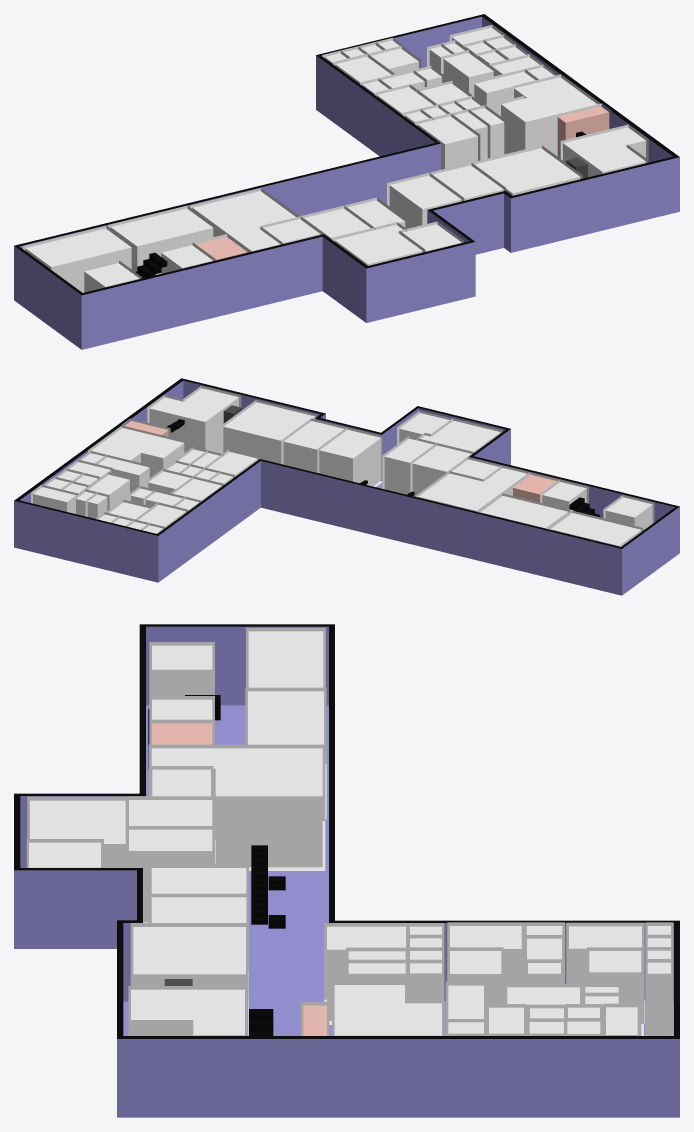
The picture shows the model from 3 angles, top to bottom: view 1: azimuth 30°, elevation 25°; view 2: azimuth 150°, elevation 25°; view 3: azimuth 270°, elevation 25°; orthographic projection. The views are drawn at different scales.
Parts seen in each view (by area): view 1: object, room_4_3_24, room_4_3_25, room_4_3_43, room_4_3_21, room_4_3_36, room_4_3_37, room_4_3_39, room_4_3_38, room_4_3_31, room_4_3_40, トイレ_4_3_2 (+15 smaller); view 2: object, room_4_3_37, room_4_3_36, room_4_3_39, room_4_3_43, room_4_3_24, room_4_3_40, room_4_3_25, room_4_3_21, room_4_3_22, room_4_3_42, room_4_3_38 (+21 smaller); view 3: object, room_4_3_43, room_4_3_36, room_4_3_37, room_4_3_24, room_4_3_38, room_4_3_25, room_4_3_21, room_4_3_22, room_4_3_20, room_4_3_31, room_4_3_40 (+29 smaller).
Boxes of the visible parts, x1,y1,x2,y2 form: object: [14, 14, 679, 349]; room_4_3_24: [501, 77, 597, 154]; room_4_3_25: [25, 228, 131, 291]; room_4_3_43: [192, 191, 295, 251]; room_4_3_21: [110, 208, 213, 274]; room_4_3_36: [474, 148, 580, 195]; room_4_3_37: [563, 127, 645, 177]; room_4_3_39: [389, 175, 461, 228]; room_4_3_38: [334, 225, 422, 265]; room_4_3_31: [417, 116, 477, 169]; room_4_3_40: [433, 165, 503, 200]; トイレ_4_3_2: [557, 106, 609, 158]; object: [14, 378, 679, 595]; room_4_3_37: [149, 388, 238, 453]; room_4_3_36: [223, 402, 314, 463]; room_4_3_39: [319, 429, 381, 486]; room_4_3_43: [418, 468, 527, 511]; room_4_3_24: [91, 428, 184, 476]; room_4_3_40: [283, 421, 343, 472]; room_4_3_25: [550, 513, 641, 546]; room_4_3_21: [480, 496, 568, 528]; room_4_3_22: [384, 438, 433, 494]; room_4_3_42: [412, 445, 471, 496]; room_4_3_38: [420, 420, 500, 452]; object: [14, 624, 679, 1117]; room_4_3_43: [151, 748, 322, 867]; room_4_3_36: [133, 927, 245, 985]; room_4_3_37: [131, 989, 244, 1035]; room_4_3_24: [334, 985, 441, 1035]; room_4_3_38: [30, 800, 125, 867]; room_4_3_25: [248, 631, 323, 687]; room_4_3_21: [248, 691, 323, 744]; room_4_3_22: [129, 829, 212, 922]; room_4_3_20: [152, 645, 212, 695]; room_4_3_31: [327, 926, 405, 1020]; room_4_3_40: [151, 897, 246, 922].
Size of the model in its own units: 2.83 by 0.2535 by 1.92.
